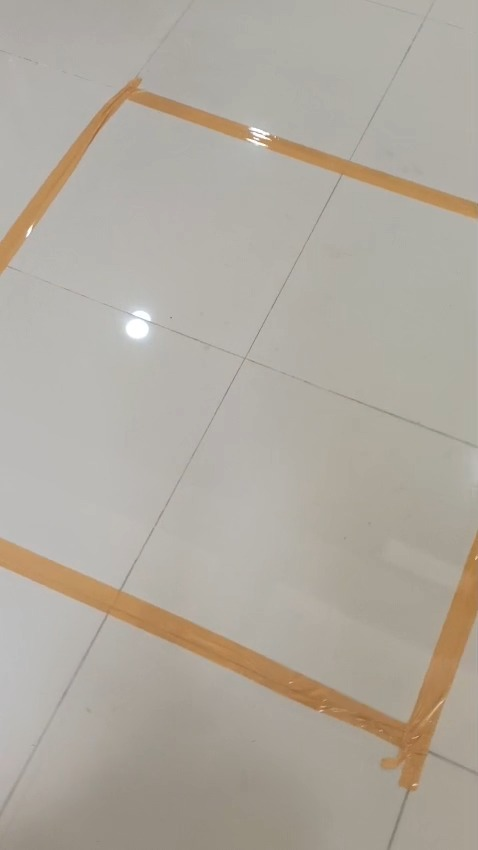floor marking: (0, 535, 475, 790), (0, 78, 477, 273)
